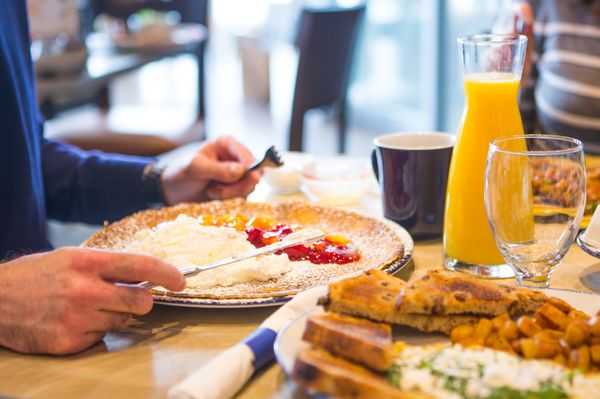pizza: (441, 32, 530, 278), (483, 134, 588, 289), (370, 130, 456, 238)
soup: (301, 311, 399, 375), (327, 270, 409, 326)
